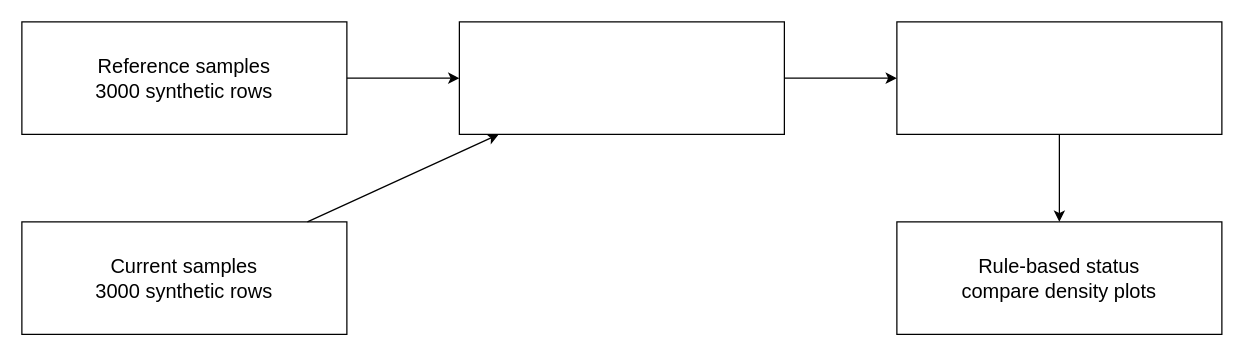
Some shapes in this 1244 by 356 pixel diagram are drawn without their labels. The shapes that lost their labels are listed below. From the top down, each one's centre as x and y in pixels, then its label:
At pixel 621 77: "Shared bin boundaries reference and current ratios".
At pixel 1059 77: "Population stability index calculation".
